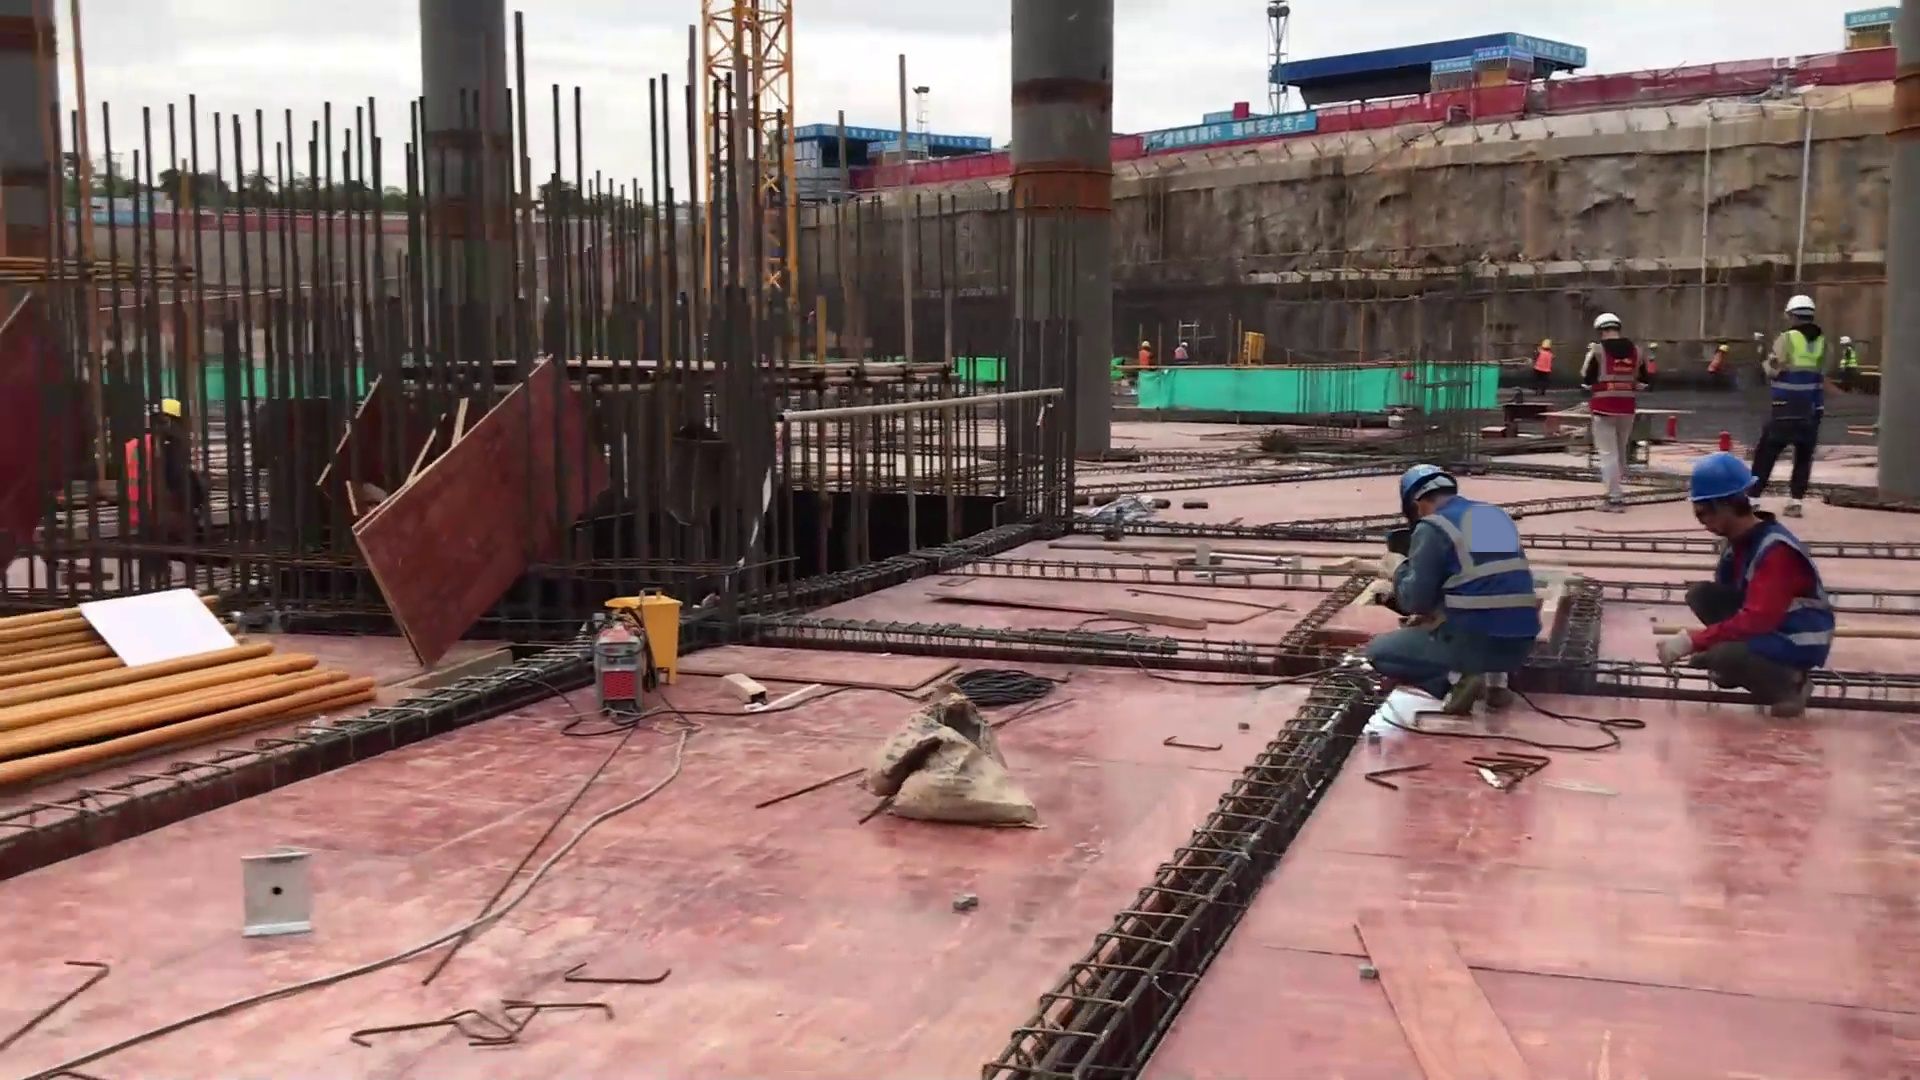helmet: (1679, 451, 1761, 512), (1388, 453, 1458, 500), (156, 398, 194, 425), (1782, 293, 1820, 316), (1591, 310, 1627, 329), (1541, 337, 1553, 350), (1837, 336, 1854, 344), (1719, 343, 1729, 353), (1647, 343, 1662, 348), (1141, 341, 1150, 348), (1181, 340, 1189, 347)
person: (1658, 440, 1846, 740), (1369, 455, 1549, 715), (1758, 288, 1823, 530), (118, 371, 194, 571), (1580, 300, 1632, 518), (1838, 333, 1860, 393), (1534, 338, 1554, 392), (1710, 343, 1729, 387), (1134, 338, 1156, 372), (1648, 337, 1661, 395), (1170, 334, 1191, 361)
vest: (1406, 498, 1528, 643), (1713, 533, 1838, 668), (116, 436, 188, 533), (1763, 328, 1821, 433), (1594, 339, 1638, 416), (1837, 347, 1858, 372), (1536, 350, 1553, 373), (1705, 354, 1722, 373), (1647, 353, 1663, 375), (1136, 348, 1151, 367), (1172, 347, 1185, 359)
